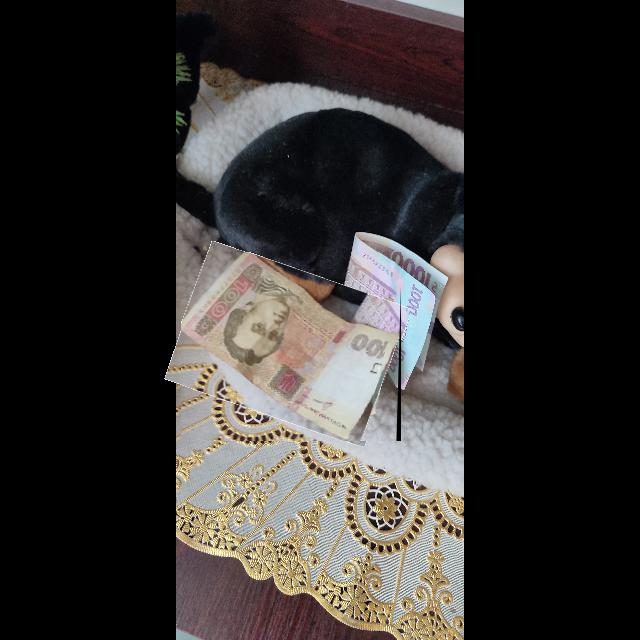100uah: (181, 252, 401, 442)
